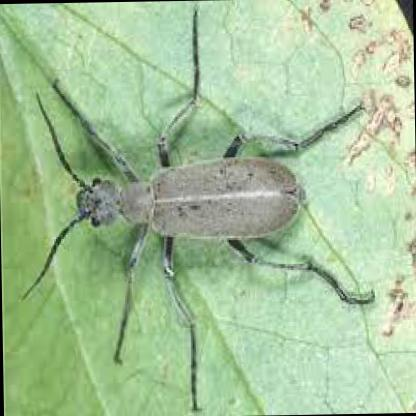blister beetle: (20, 10, 317, 303)
